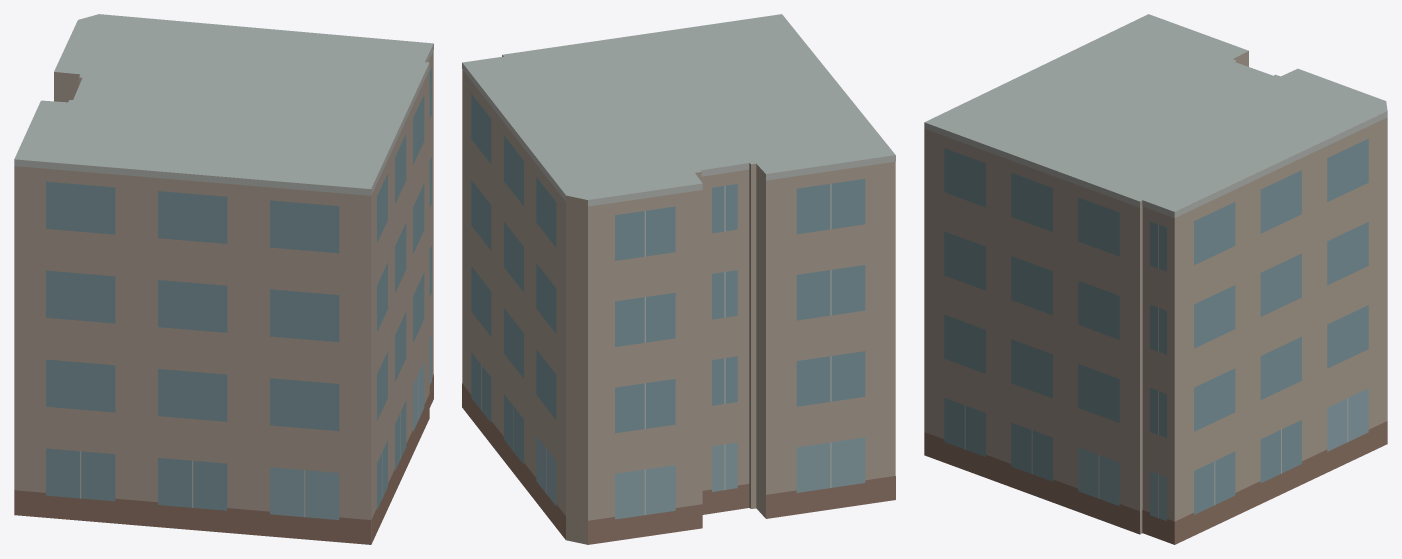
The model's file is survey-upis-33013764.glb.
3 renders of one model, left to right at view 1: azimuth 30°, elevation 25°; view 2: azimuth 150°, elevation 25°; view 3: azimuth 270°, elevation 25°, orthographic. The views are drawn at different scales.
Visible parts, largest first — view 1: survey-upis-33013764.tmp; view 2: survey-upis-33013764.tmp; view 3: survey-upis-33013764.tmp.
Part boxes in pixels (box(x1,y1,x2,y2)): survey-upis-33013764.tmp: box(14, 14, 433, 544); survey-upis-33013764.tmp: box(462, 14, 895, 544); survey-upis-33013764.tmp: box(924, 14, 1387, 544).
Size of the model in its own units: 16.52 by 12.95 by 16.34.
